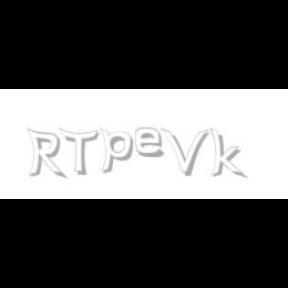R: (26, 128, 64, 180)
T: (59, 128, 99, 176)
V: (161, 128, 209, 176)
e: (136, 128, 168, 158)
k: (209, 128, 247, 180)
p: (100, 128, 138, 174)
